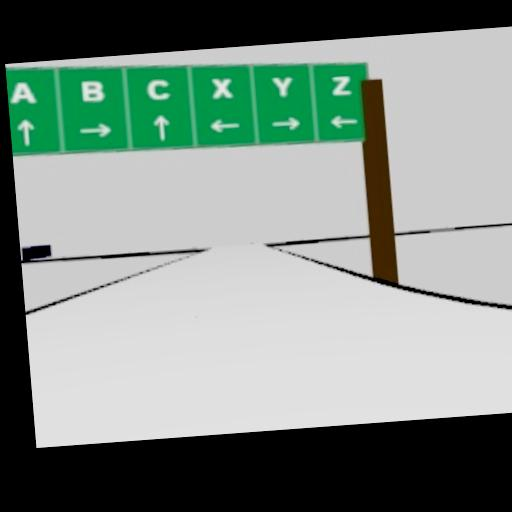A: (8, 80, 35, 104)
B: (79, 78, 104, 103)
C: (146, 78, 169, 100)
Left: (208, 116, 241, 132), (328, 113, 359, 130)
Right: (78, 123, 113, 139), (271, 116, 300, 132)
Straight: (15, 117, 35, 145), (152, 113, 170, 139)
X: (210, 76, 233, 98)
Y: (271, 75, 294, 98)
Z: (330, 74, 352, 95)
